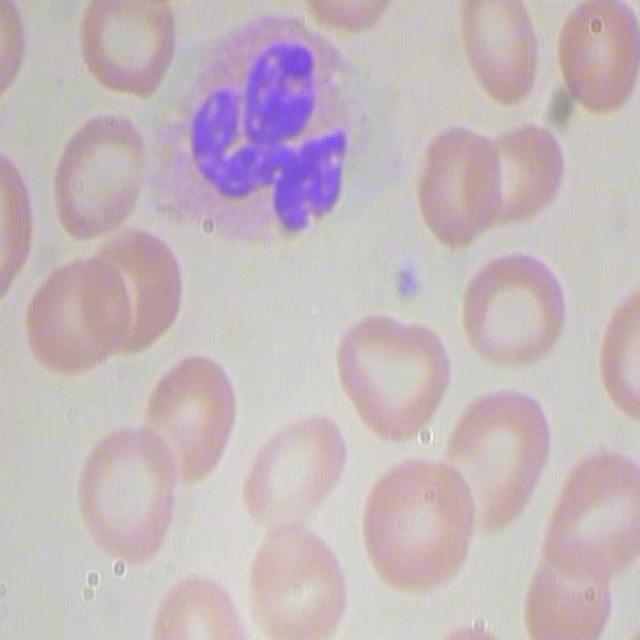RBC: (452, 240, 574, 375), (360, 454, 478, 593), (332, 304, 449, 443), (449, 375, 554, 524), (44, 107, 148, 246), (239, 410, 350, 539), (77, 426, 182, 561), (233, 524, 346, 636), (147, 350, 240, 482), (413, 123, 503, 253), (81, 0, 182, 101), (549, 1, 638, 112), (457, 1, 544, 105), (598, 279, 640, 429), (149, 576, 244, 640), (296, 0, 397, 43)
WBC: (188, 8, 357, 265)
platelets: (393, 256, 427, 313)
